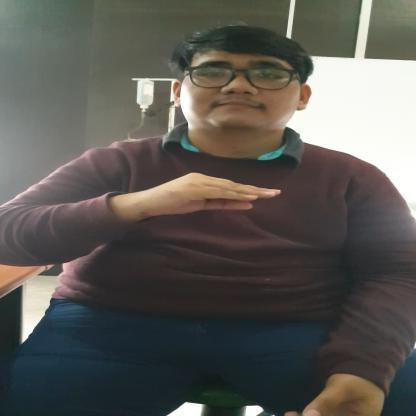Pagi: (115, 170, 284, 220)
